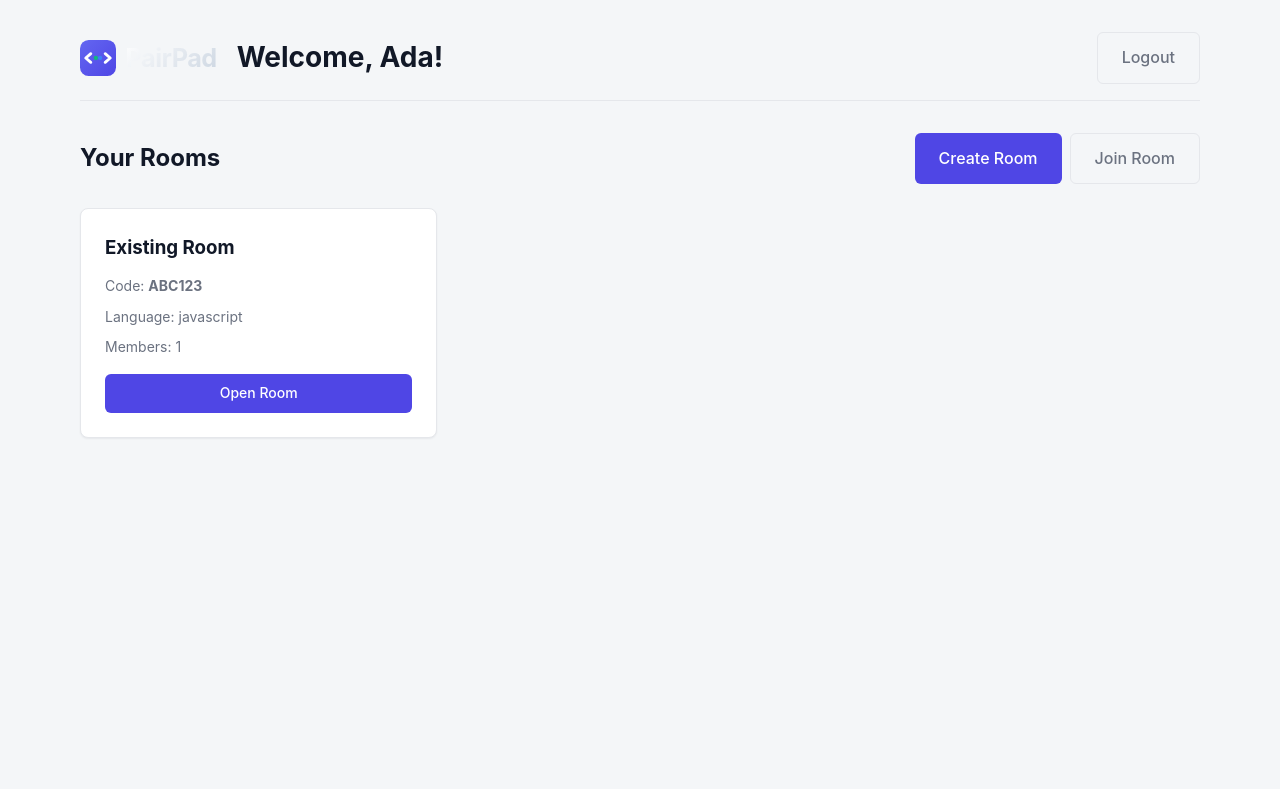
Dashboard › loads rooms and creates a room without duplicating an existing room
This screenshot has width=1280, height=789.
Check: the heading "Existing Room" is shown, box [105,236,235,259]
Click the button "Create Room" at (988, 158), box [915,133,1062,184]
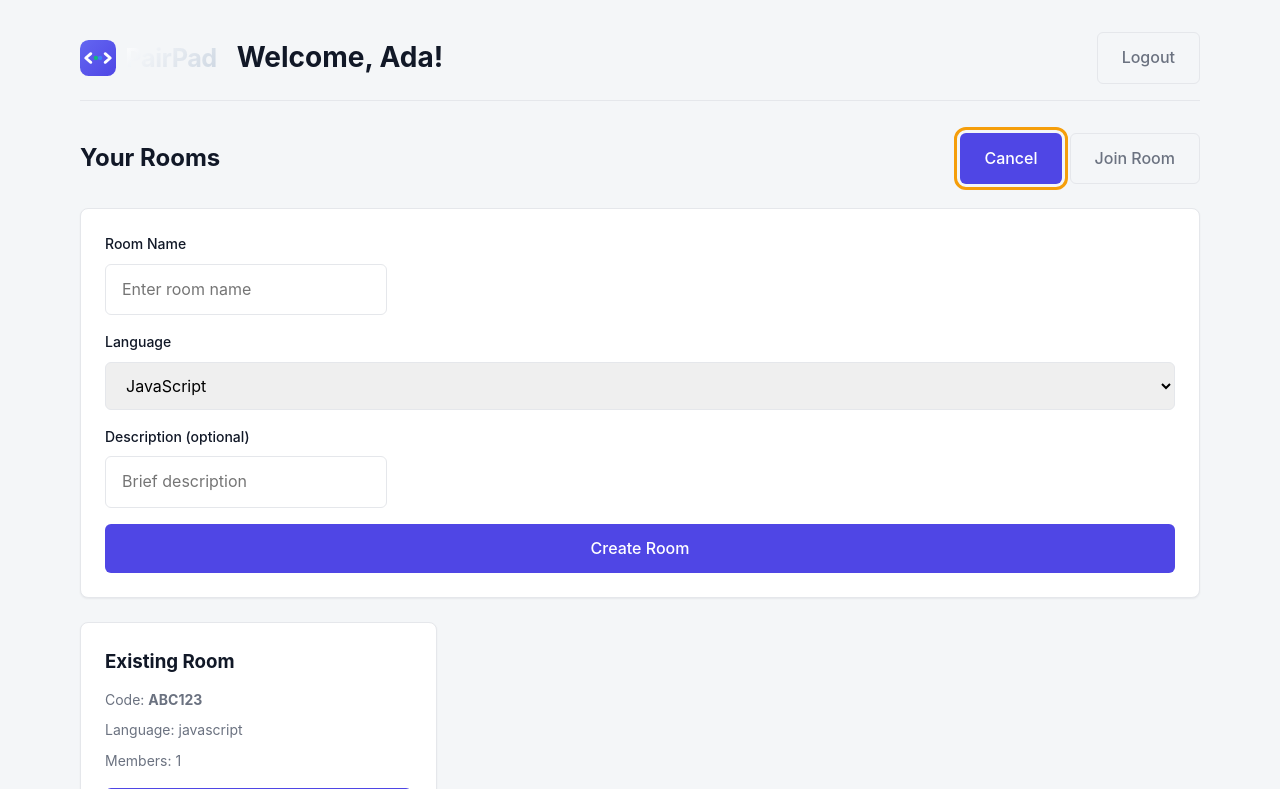
Type "Renamed Room" into the field labelled "Room Name" at (246, 289), box [105,264,387,315]
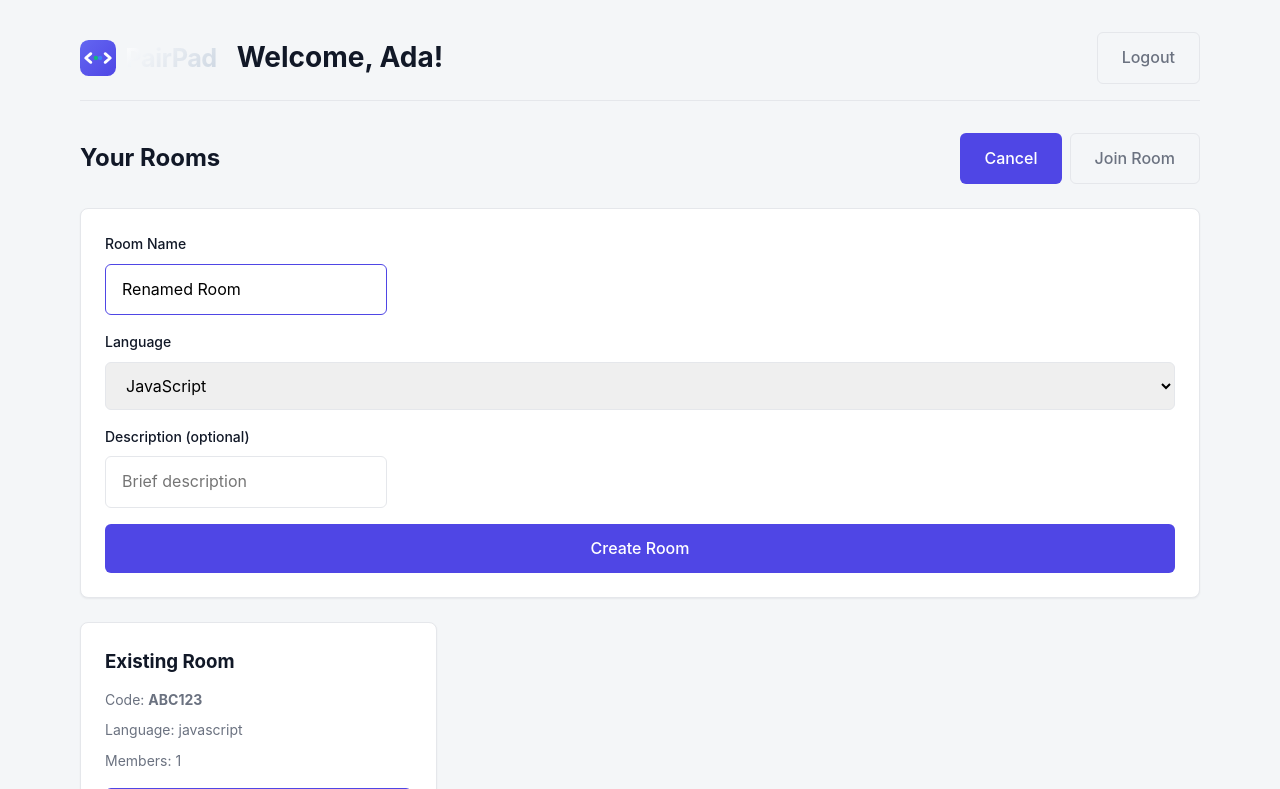
Click the button "Create Room" at (640, 548), box [105,524,1175,573]
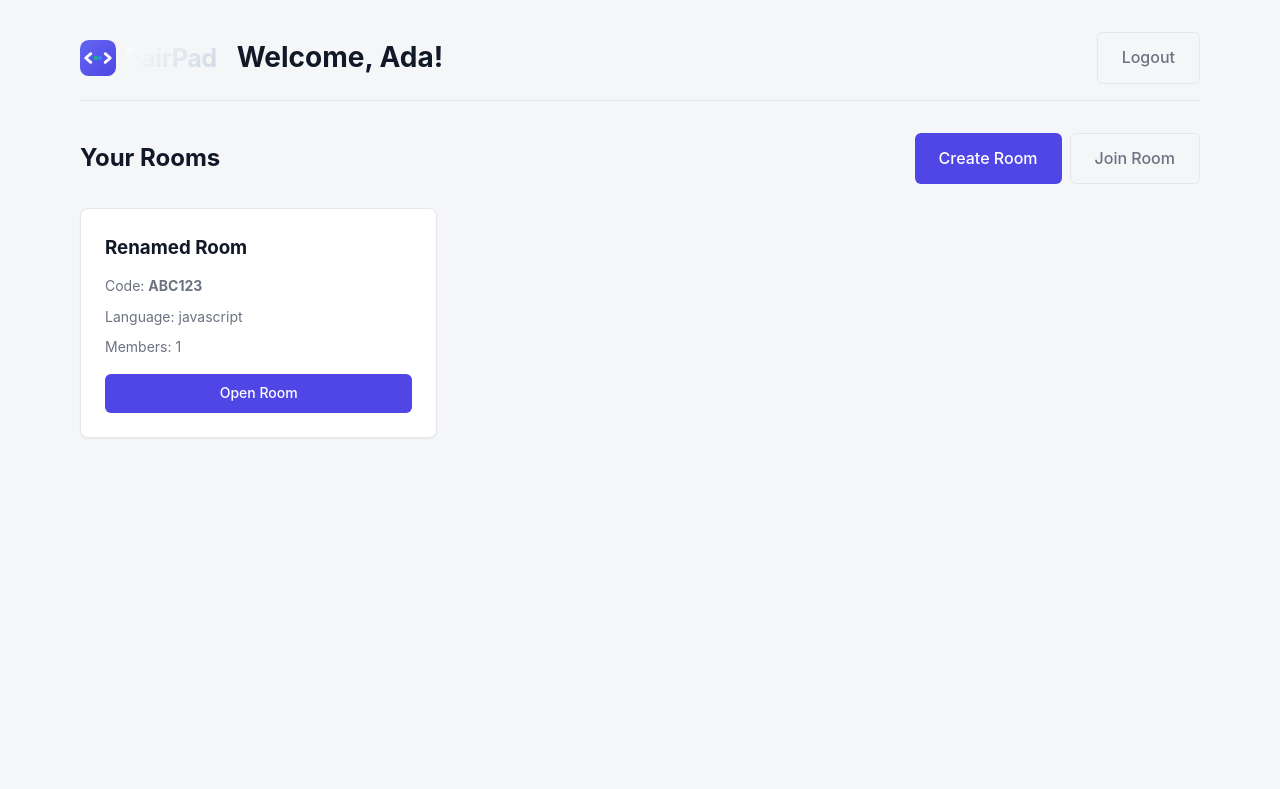
Check: the text "Code: ABC123" is shown once, box [105,277,202,294]
Check: the heading "Renamed Room" is shown, box [105,236,247,259]
Check: the heading "Existing Room" is gone
